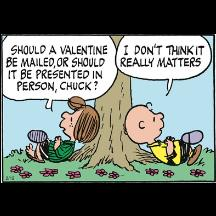charlie: (123, 101, 205, 167)
